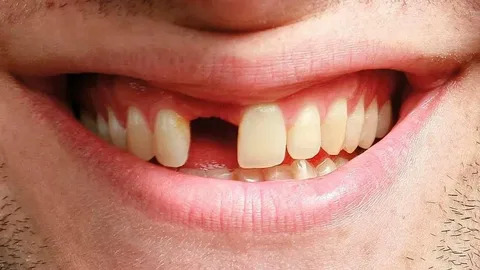Missing: (159, 107, 277, 163)
